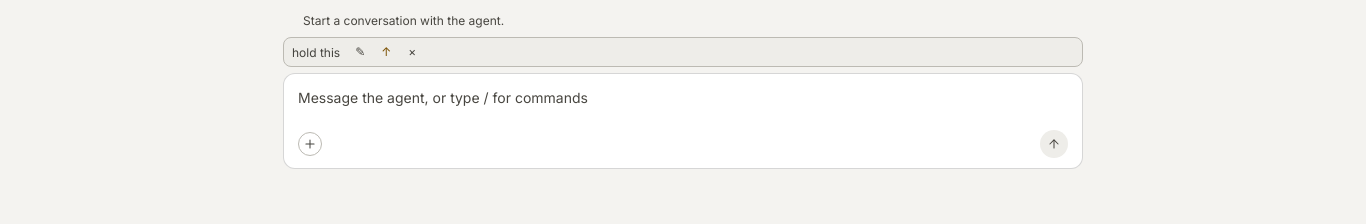
Scenario: AgentChatSurface queue rows › says a refused send-now once, beside the composer
Click the button "↑": (386, 52) [374,40,398,64]
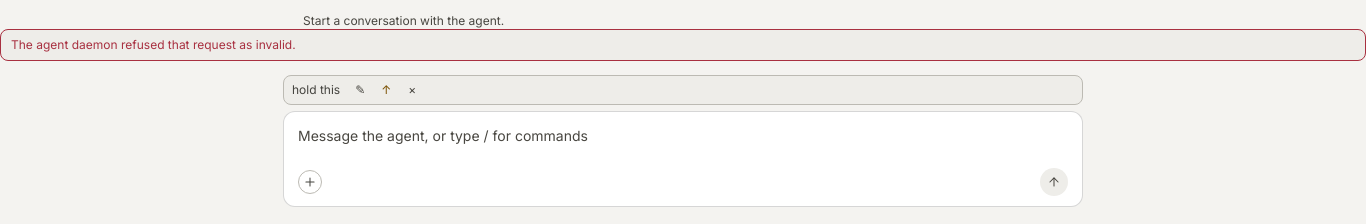
Expected: the number of list items with test id "queue-row" is 1, [283,75,1083,105]
Result: the message with test id "queue-error" reads "The agent daemon refused that request as invalid." at [11,37,296,52]
